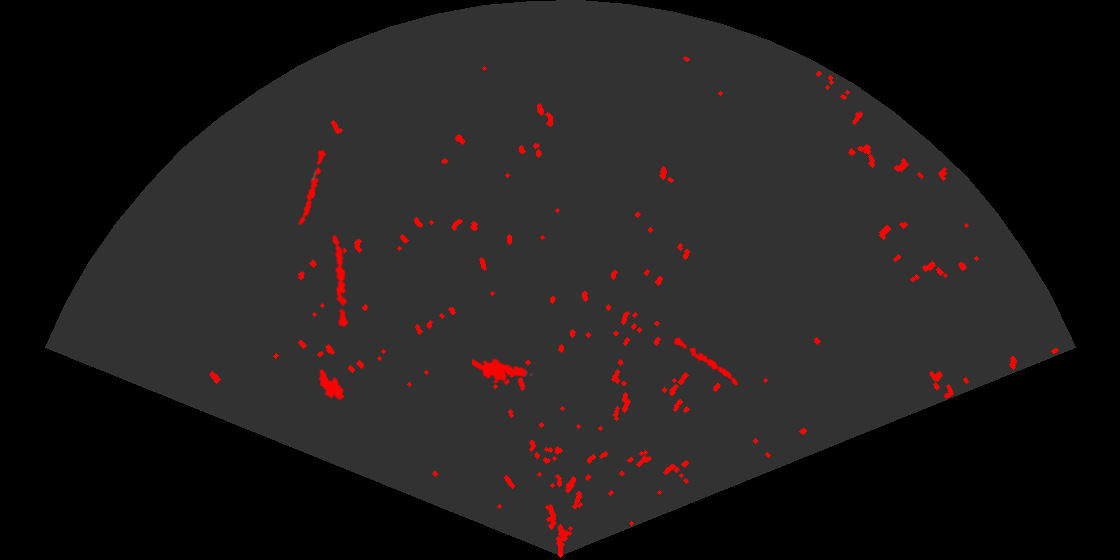AUV: (317, 367, 346, 402)
chain: (668, 333, 740, 387), (297, 147, 328, 227), (330, 233, 350, 328)
frogman: (472, 357, 534, 385)
